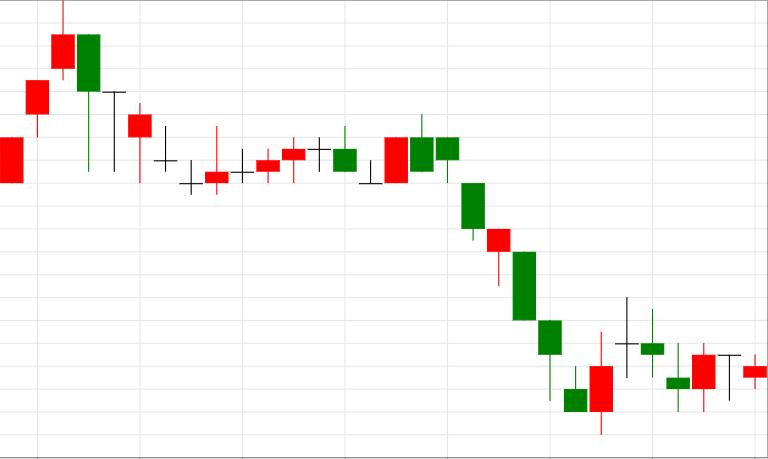bullish_engulfing_rise: (410, 114, 613, 435)
